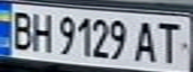1: (72, 14, 93, 57)
2: (90, 15, 112, 61)
9: (109, 16, 133, 62), (54, 11, 78, 56)
A: (133, 17, 160, 64)
B: (6, 8, 36, 52)
H: (27, 9, 57, 53)
T: (151, 19, 187, 65)
